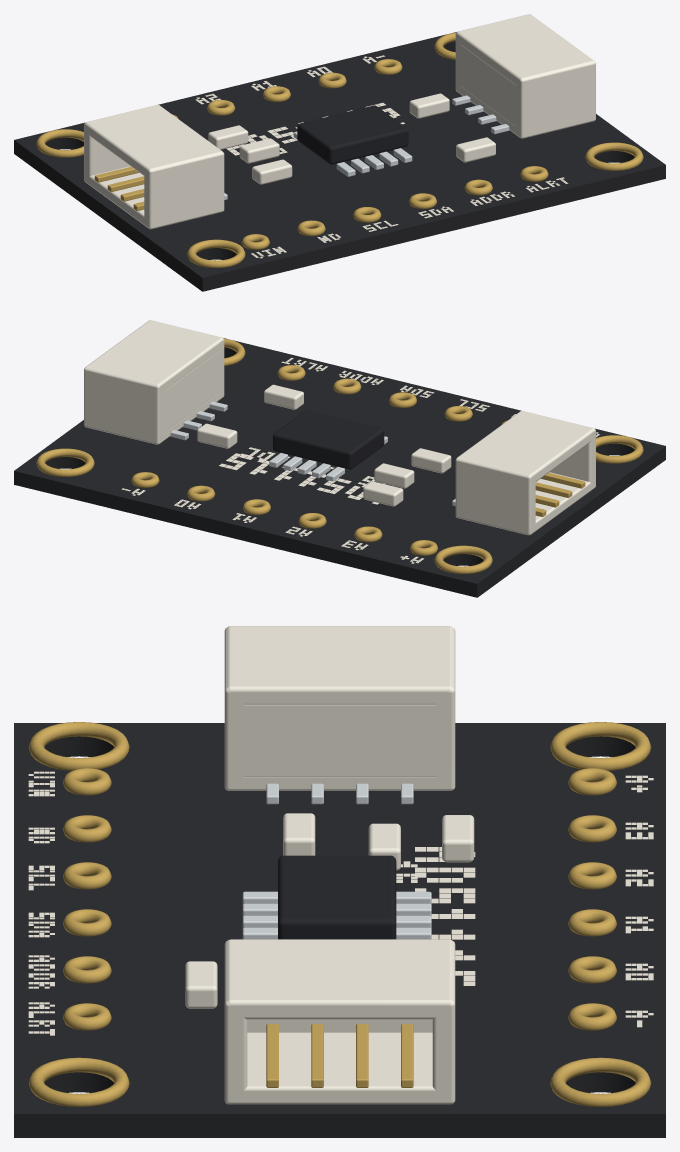
File: components-17.glb
3 views of the same model, one above another, from view 1: azimuth 30°, elevation 25°; view 2: azimuth 150°, elevation 25°; view 3: azimuth 270°, elevation 25° (orthographic). The views are drawn at different scales.
Visible parts, largest first — view 1: board, right, left, chip, mounts, host, analog; view 2: board, right, left, chip, mounts, analog, host; view 3: board, left, right, chip, mounts, analog, host.
Boxes of the visible parts, x1,y1,x2,y2 form: board: (14, 32, 665, 291); right: (452, 14, 595, 138); left: (84, 104, 227, 229); chip: (208, 93, 495, 184); mounts: (36, 32, 643, 267); host: (241, 166, 548, 249); analog: (172, 59, 402, 118); board: (14, 338, 665, 597); right: (84, 320, 227, 444); left: (452, 410, 595, 535); chip: (197, 384, 451, 506); mounts: (36, 338, 643, 573); analog: (131, 472, 438, 555); host: (277, 365, 507, 424); board: (14, 723, 665, 1137); left: (224, 626, 455, 804); right: (224, 939, 455, 1104); chip: (185, 813, 474, 1008); mounts: (28, 722, 651, 1106); analog: (568, 768, 616, 1030); host: (63, 768, 111, 1030).
Bounding box in the file's own units: 2.27 × 0.3505 × 1.6.
